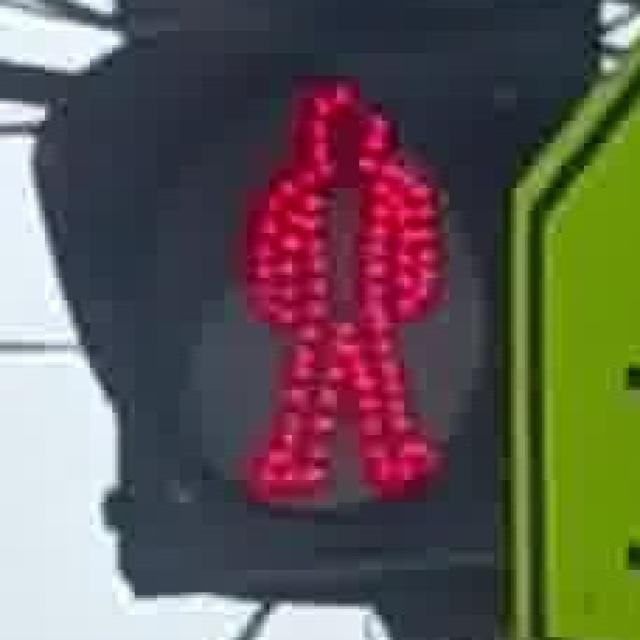red-crossing: (213, 53, 454, 508)
